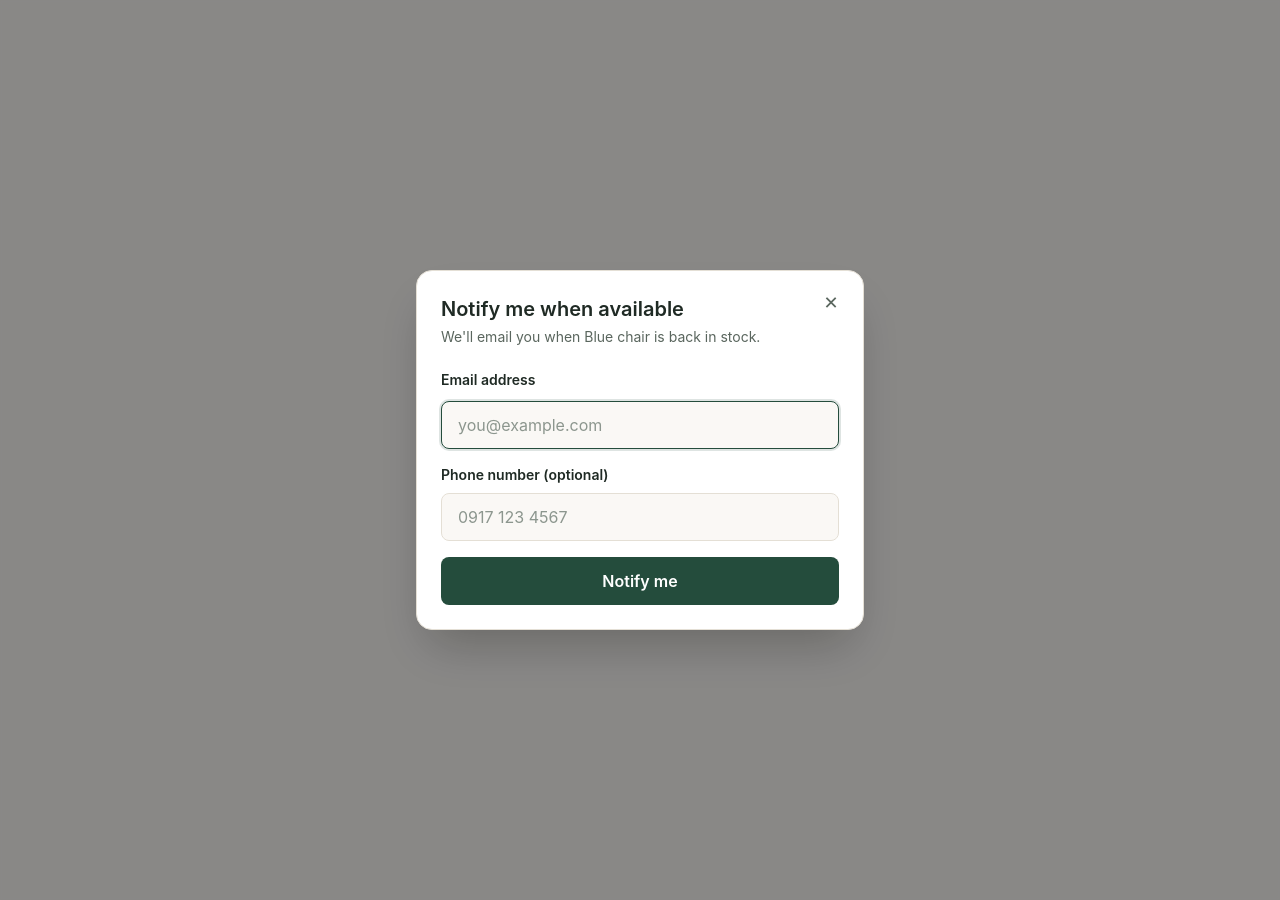
it: BackInStockDialog › validates email locally without sending a request
Type "not-an-email" into the field labelled "Email address".
click(640, 425); type("not-an-email")  # box [441,401,839,449]
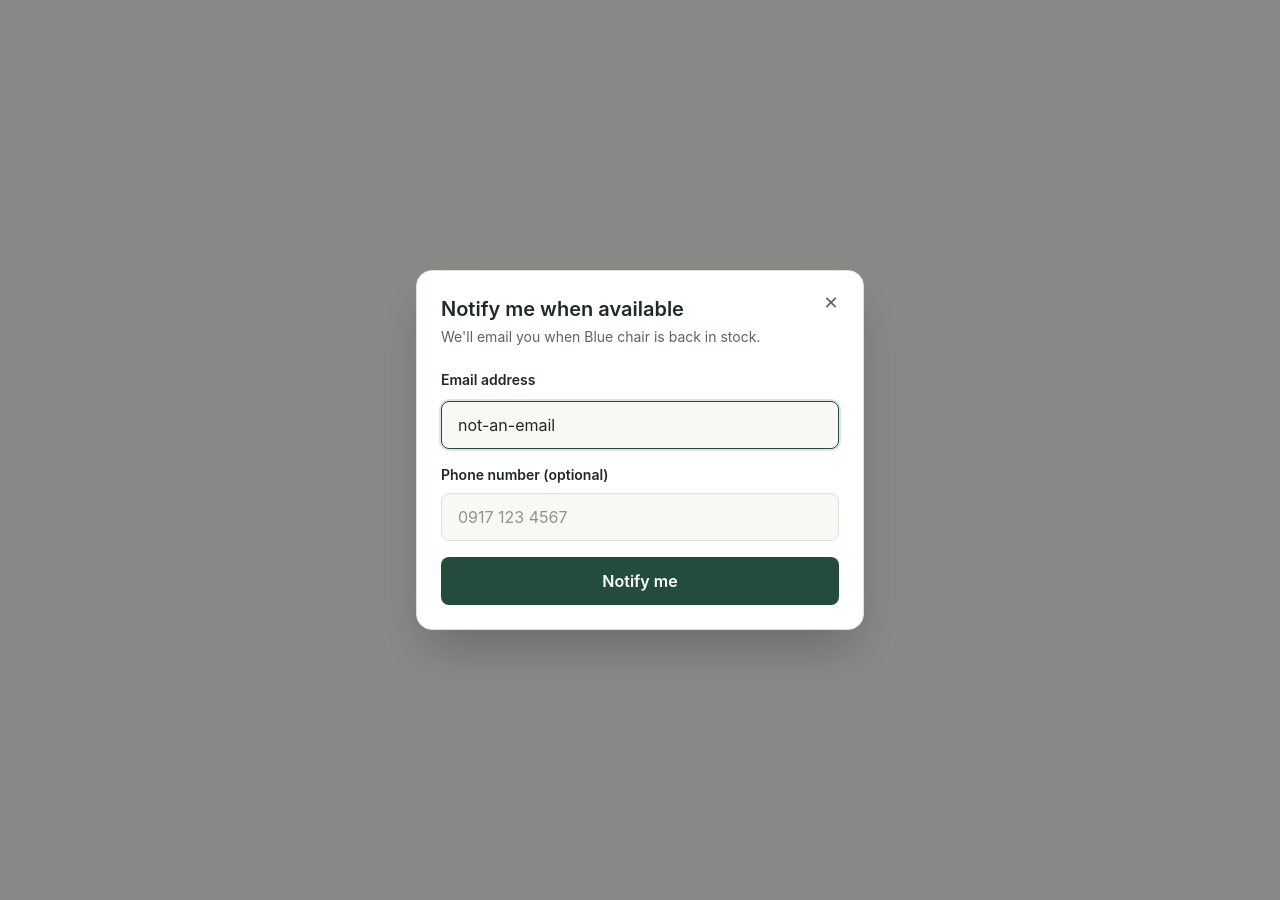
Click the button "Notify me".
click(640, 581)  # box [441,557,839,605]
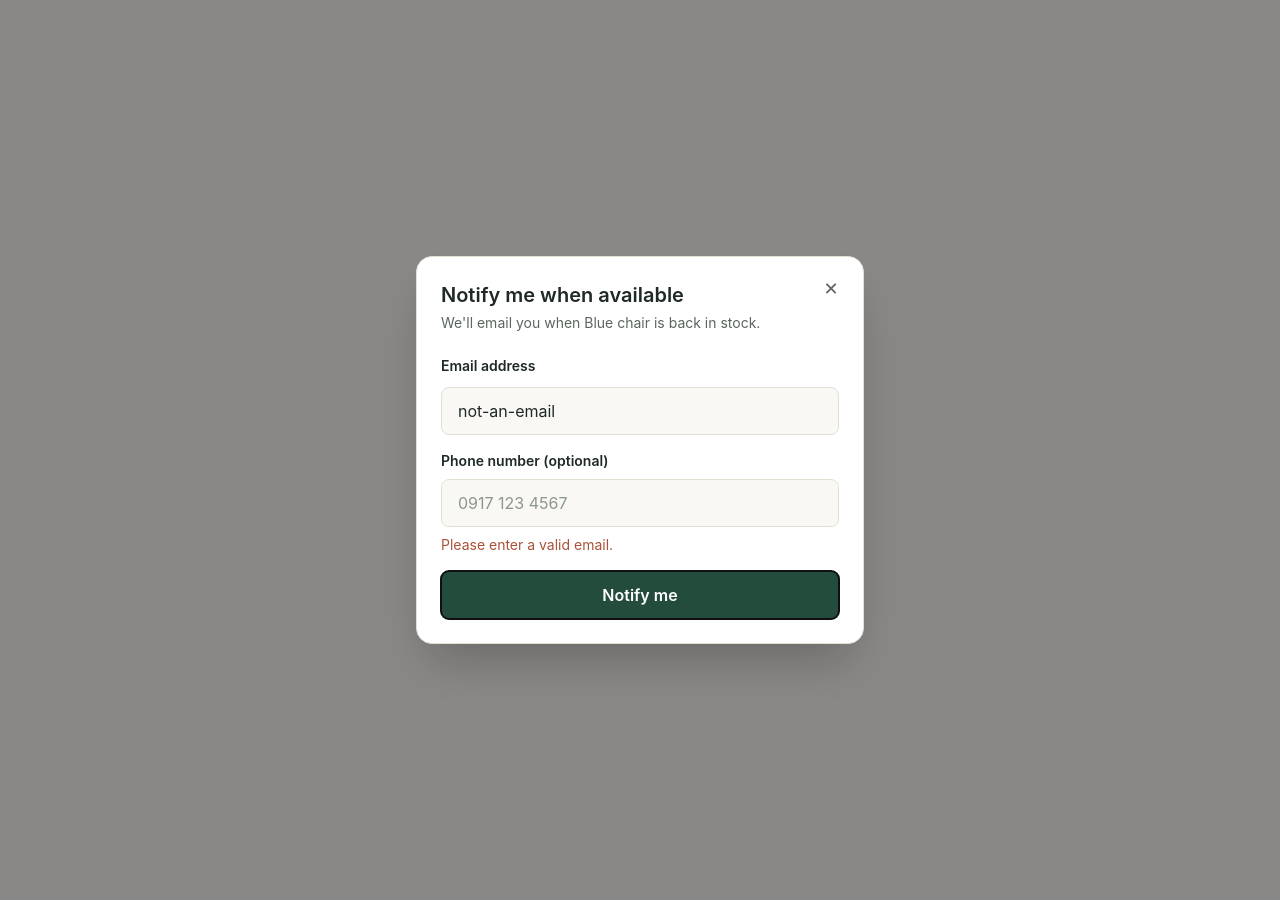
Check: the message reads "Please enter a valid email.", box [441,536,613,553]
